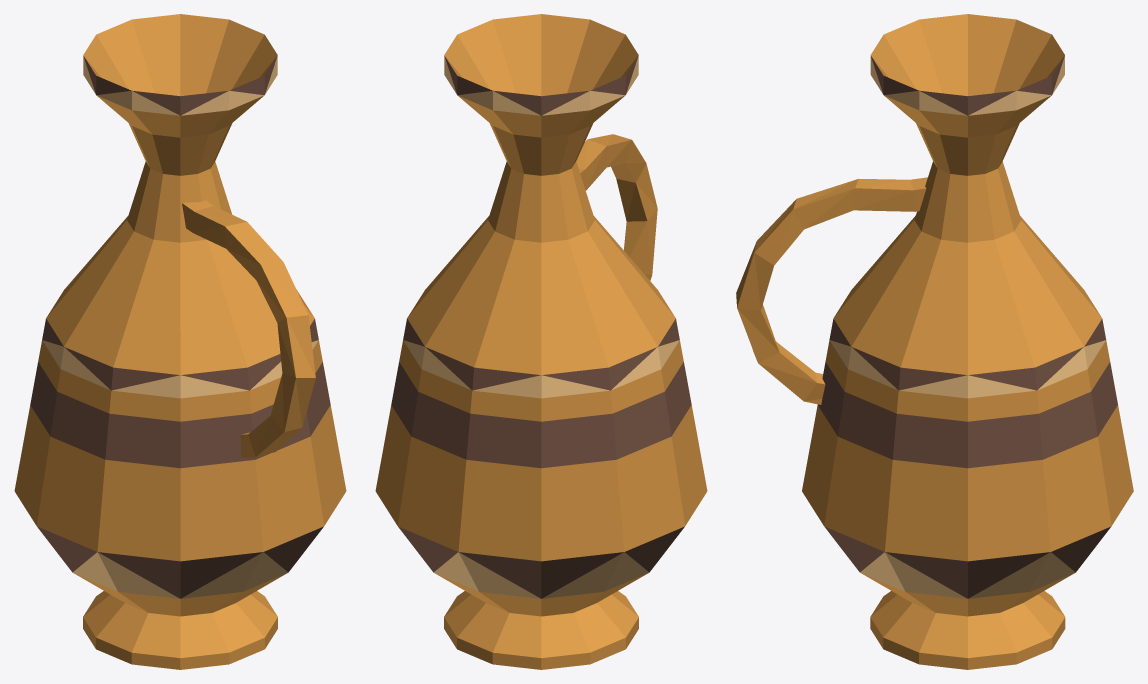
File: amphora.glb
3 renders of one model, left to right at view 1: azimuth 30°, elevation 25°; view 2: azimuth 150°, elevation 25°; view 3: azimuth 270°, elevation 25°, orthographic.
Visible parts, largest first — view 1: Node; view 2: Node; view 3: Node.
Part boxes in pixels (x1=…): Node: x1=14, y1=14, x2=346, y2=669; Node: x1=375, y1=14, x2=707, y2=669; Node: x1=736, y1=14, x2=1133, y2=669.
Bounding box in the file's own units: 0.7658 × 1.46 × 0.9174.
Materials: 1 (1 with a texture image).
